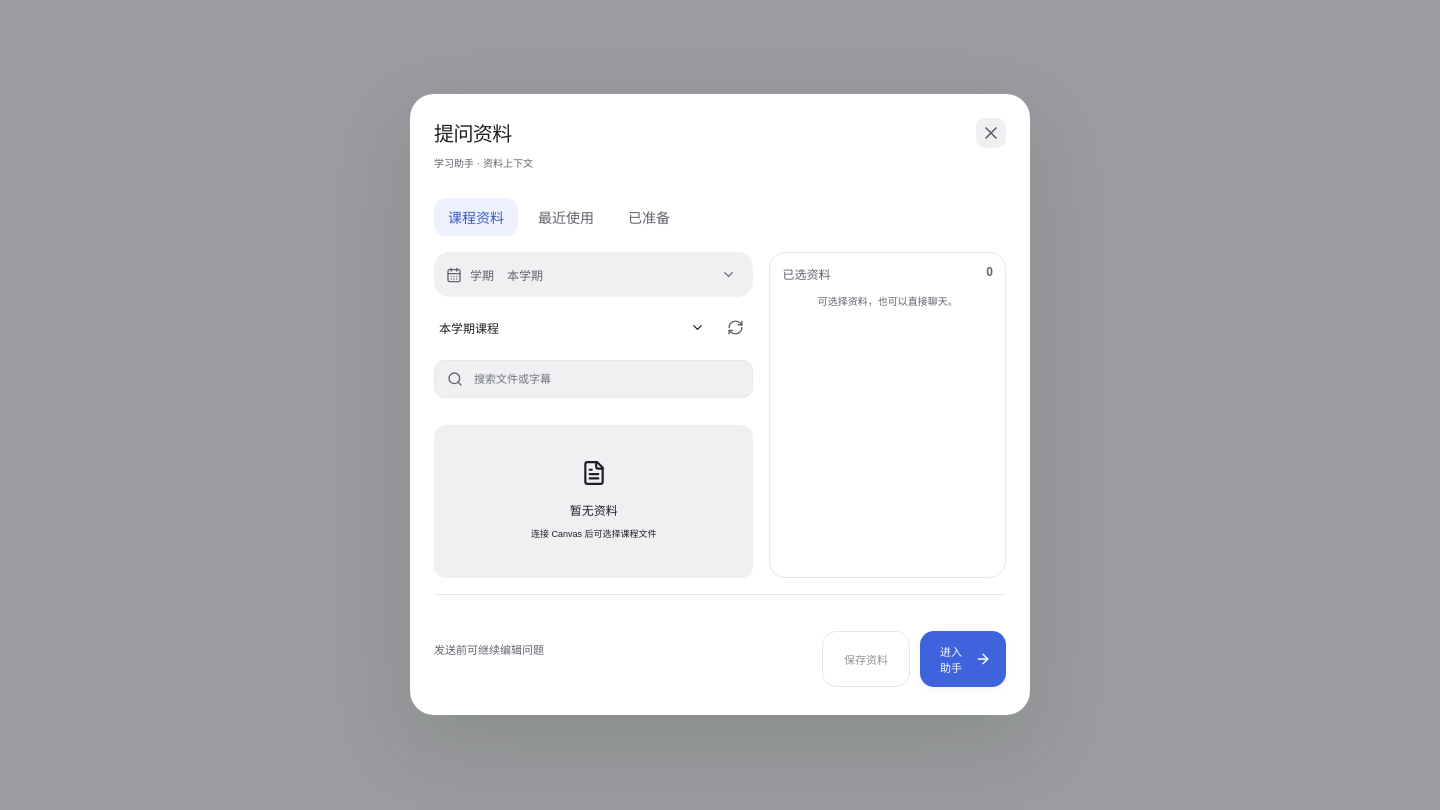
unified question materials › filters courses by semester while preserving selected materials
Click the button with aria-label "学期筛选". click: (622, 275)
box: [502, 254, 741, 296]
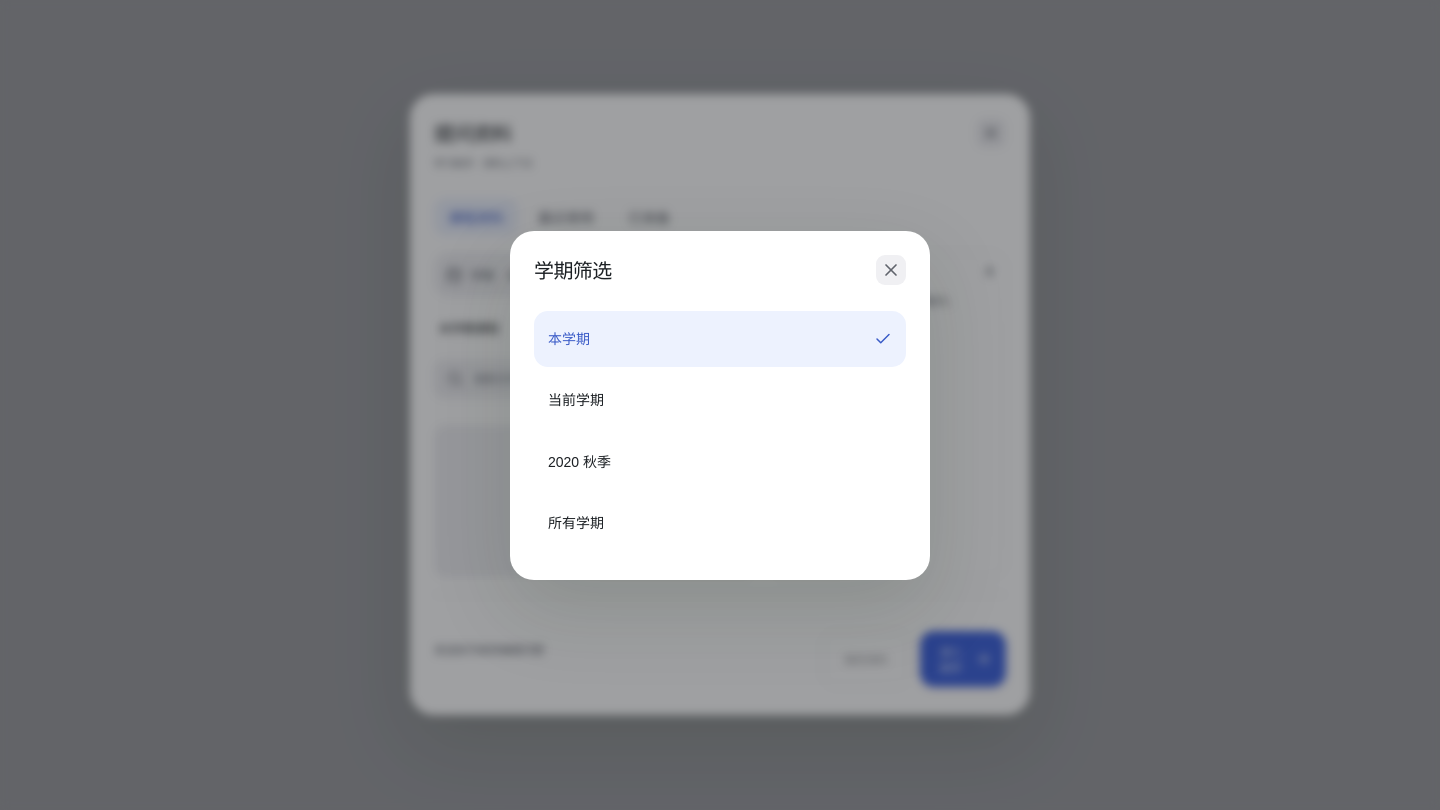
Click the button "2020 秋季". click: (580, 462)
box: [534, 434, 906, 490]
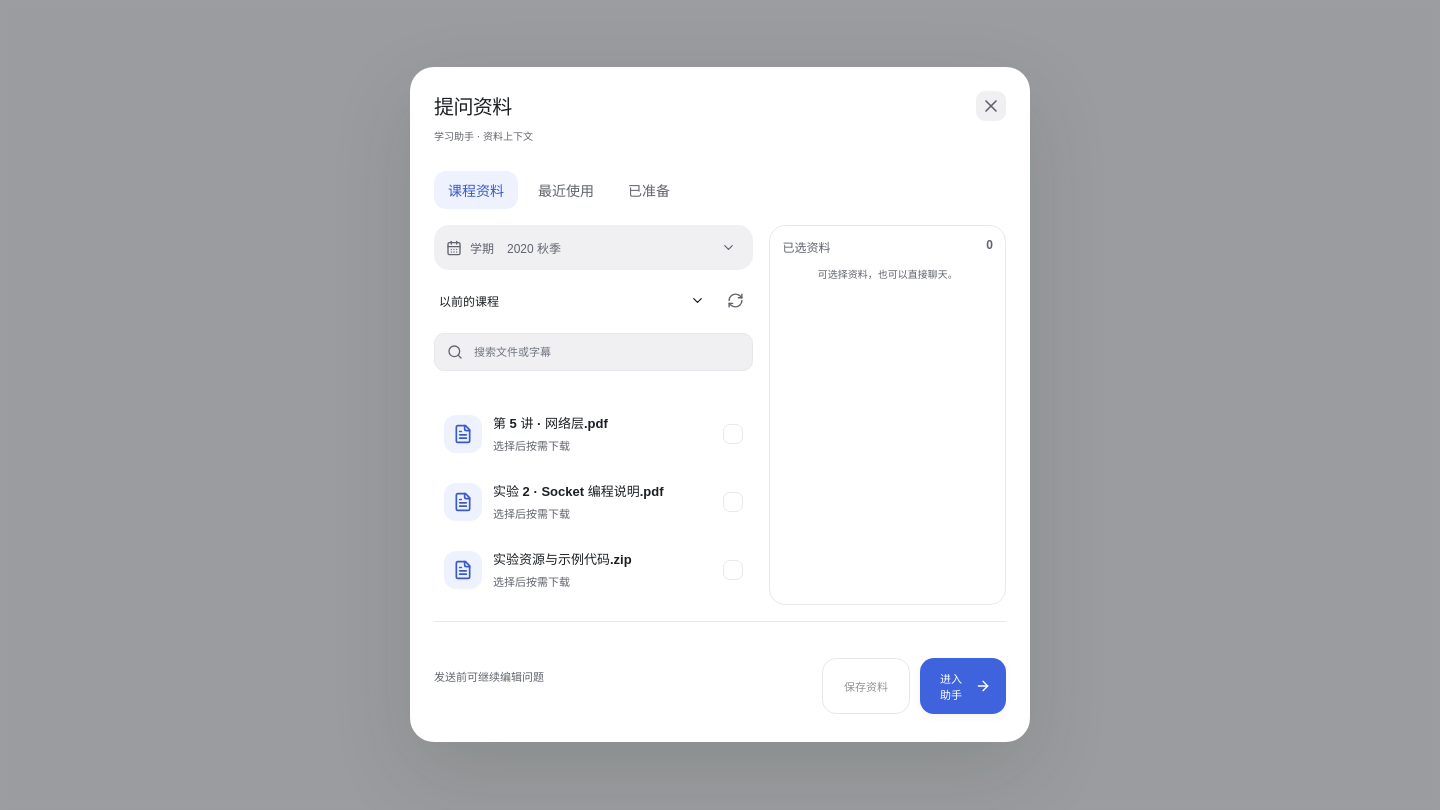
Expected: the button with aria-label "资料课程" reads "以前的课程", [434, 279, 710, 321]
